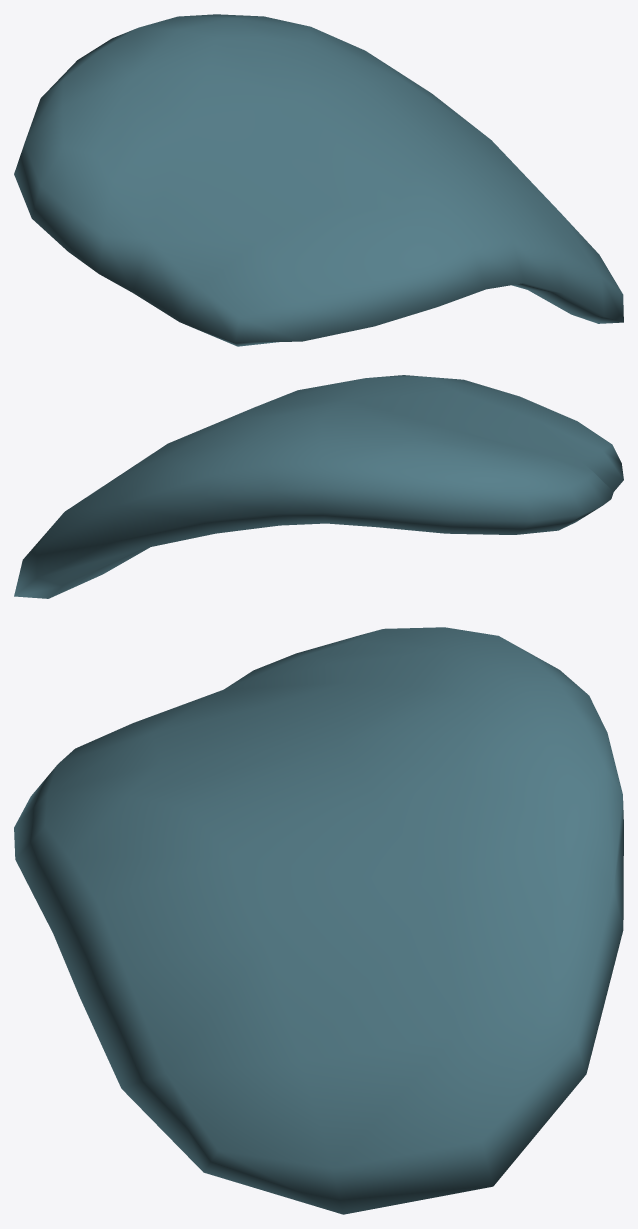
Rendered from Extensor_digitorum_longus_&_brevis_on_4th_middle_phalanx.l_Gene.glb.
3 renders of one model, top to bottom at view 1: azimuth 30°, elevation 25°; view 2: azimuth 150°, elevation 25°; view 3: azimuth 270°, elevation 25°, orthographic. The views are drawn at different scales.
Parts seen in each view (by area): view 1: Extensor_digitorum_longus_&_brevis_on_4th_middle_phalanx.l_G; view 2: Extensor_digitorum_longus_&_brevis_on_4th_middle_phalanx.l_G; view 3: Extensor_digitorum_longus_&_brevis_on_4th_middle_phalanx.l_G.
Part boxes in pixels (x1,y1,x2,y2): Extensor_digitorum_longus_&_brevis_on_4th_middle_phalanx.l_G: (14, 14, 623, 346); Extensor_digitorum_longus_&_brevis_on_4th_middle_phalanx.l_G: (14, 375, 623, 598); Extensor_digitorum_longus_&_brevis_on_4th_middle_phalanx.l_G: (14, 627, 623, 1214).
Size of the model in its own units: 0.0042 by 0.00205 by 0.0034.
